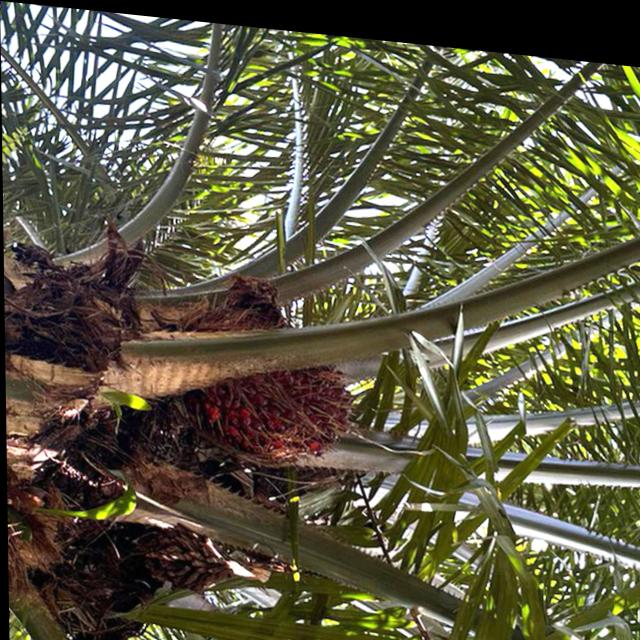ripe: (166, 252, 373, 479)
